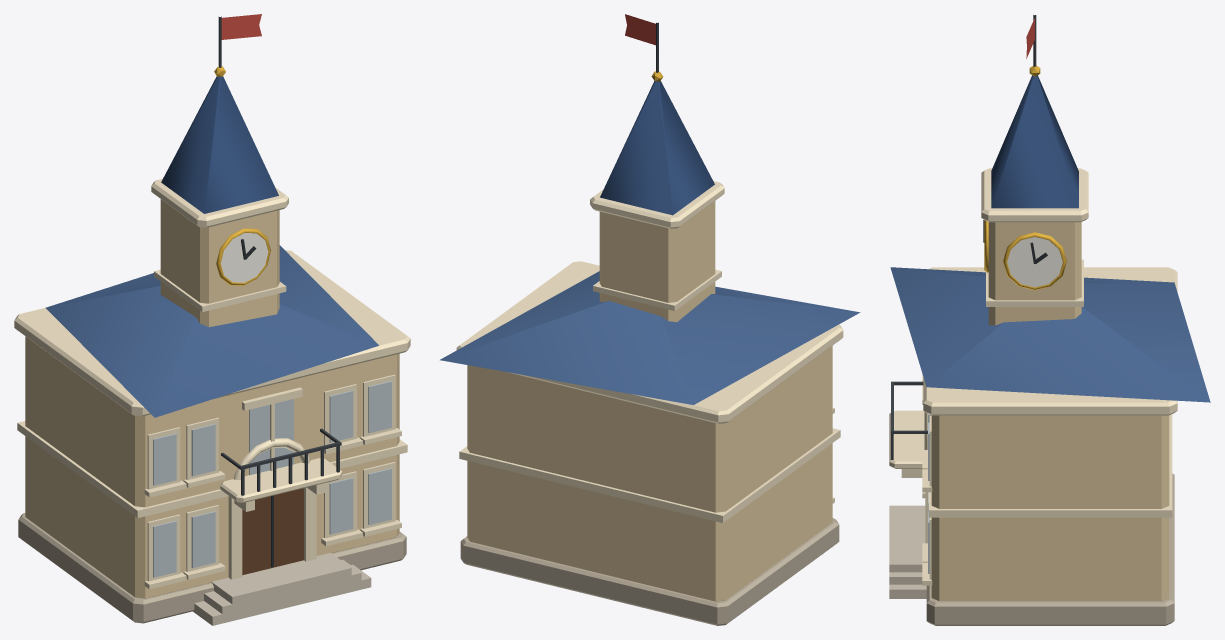
Rendered from town_hall.glb.
3 views of the same model, side by side, from view 1: azimuth 30°, elevation 25°; view 2: azimuth 150°, elevation 25°; view 3: azimuth 270°, elevation 25° (orthographic). The views are drawn at different scales.
Visible parts, largest first — view 1: walls, roof, tower, spire, cornice, plinth, step_3, entrance_door, floor_band, balcony_slab, tower_cornice, balcony_door (+26 smaller); view 2: walls, roof, tower, plinth, spire, cornice, floor_band, tower_cornice, tower_band, flag; view 3: walls, roof, spire, cornice, plinth, tower, floor_band, step_3, tower_cornice, clock_face_right, balcony_slab, tower_band (+2 smaller).
Boxes of the visible parts, left/top/right/bottom form: walls: left=25, top=336, right=399, bottom=598; roof: left=45, top=245, right=378, bottom=417; tower: left=160, top=199, right=279, bottom=327; spire: left=161, top=76, right=278, bottom=213; cornice: left=14, top=250, right=410, bottom=416; plinth: left=18, top=513, right=406, bottom=623; step_3: left=211, top=553, right=351, bottom=620; entrance_door: left=242, top=488, right=303, bottom=575; floor_band: left=17, top=421, right=407, bottom=518; balcony_slab: left=220, top=458, right=342, bottom=502; tower_cornice: left=151, top=178, right=288, bottom=227; balcony_door: left=249, top=399, right=293, bottom=475; walls: left=467, top=346, right=832, bottom=601; roof: left=440, top=271, right=860, bottom=404; tower: left=599, top=201, right=715, bottom=322; plinth: left=460, top=518, right=839, bottom=625; spire: left=600, top=81, right=714, bottom=215; cornice: left=456, top=261, right=843, bottom=423; floor_band: left=459, top=428, right=840, bottom=522; tower_cornice: left=590, top=181, right=724, bottom=228; tower_band: left=593, top=269, right=721, bottom=310; flag: left=625, top=14, right=655, bottom=45; walls: left=931, top=415, right=1169, bottom=601; roof: left=890, top=267, right=1210, bottom=402; spire: left=991, top=75, right=1078, bottom=208; cornice: left=923, top=267, right=1177, bottom=415; plinth: left=926, top=473, right=1174, bottom=625; tower: left=988, top=222, right=1081, bottom=325; floor_band: left=928, top=414, right=1172, bottom=517; step_3: left=889, top=505, right=925, bottom=572; tower_cornice: left=981, top=168, right=1088, bottom=222; clock_face_right: left=1007, top=237, right=1062, bottom=287; balcony_slab: left=889, top=410, right=924, bottom=468; tower_band: left=986, top=259, right=1083, bottom=306.
Size of the model in its own units: 3.16 by 5.82 by 3.11.
